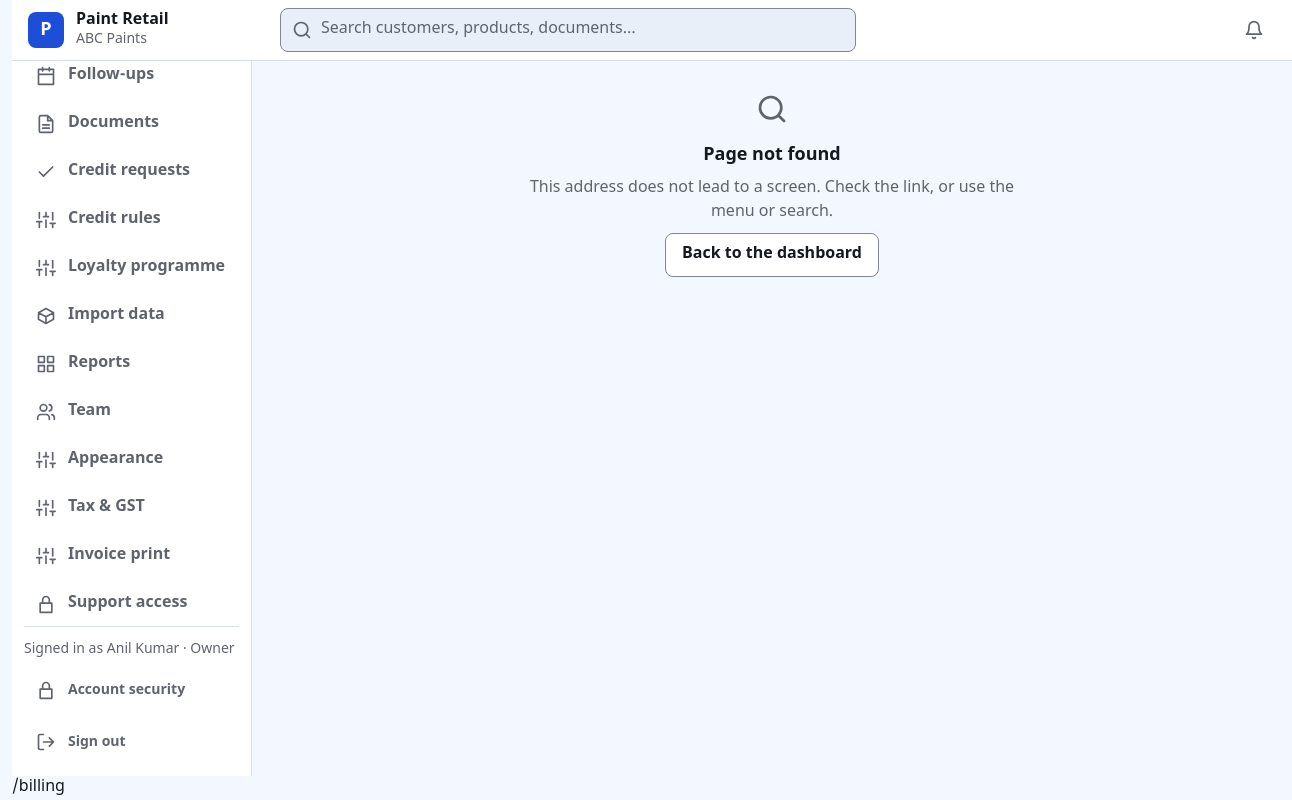
it: sign-out › ends the session on the server and returns to sign-in
(page scrolled)
Expected: the text "Page not found" is shown, [703,142,841,169]
Click the button "Sign out" at (132, 742), box [24,720,239,764]
(page scrolled)
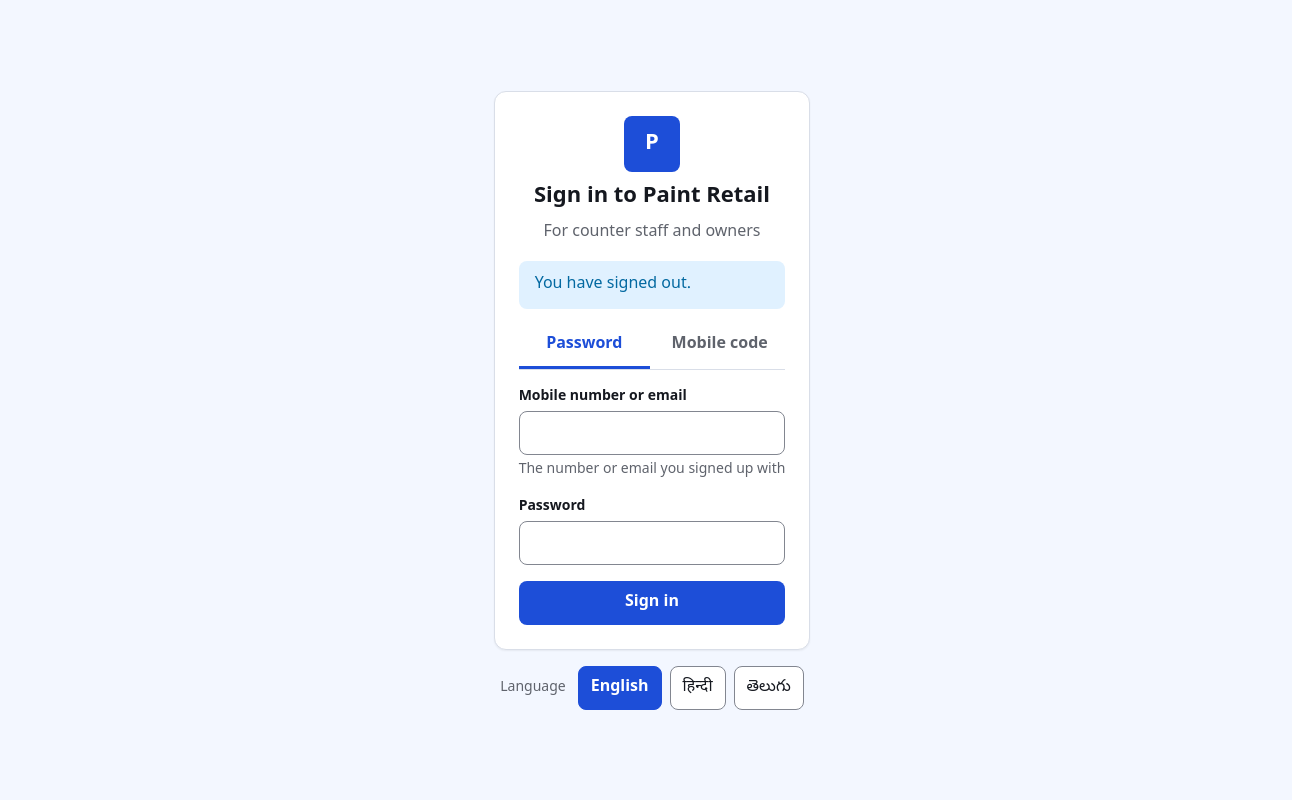
Expected: the text "You have signed out." is shown, [535,272,691,296]
